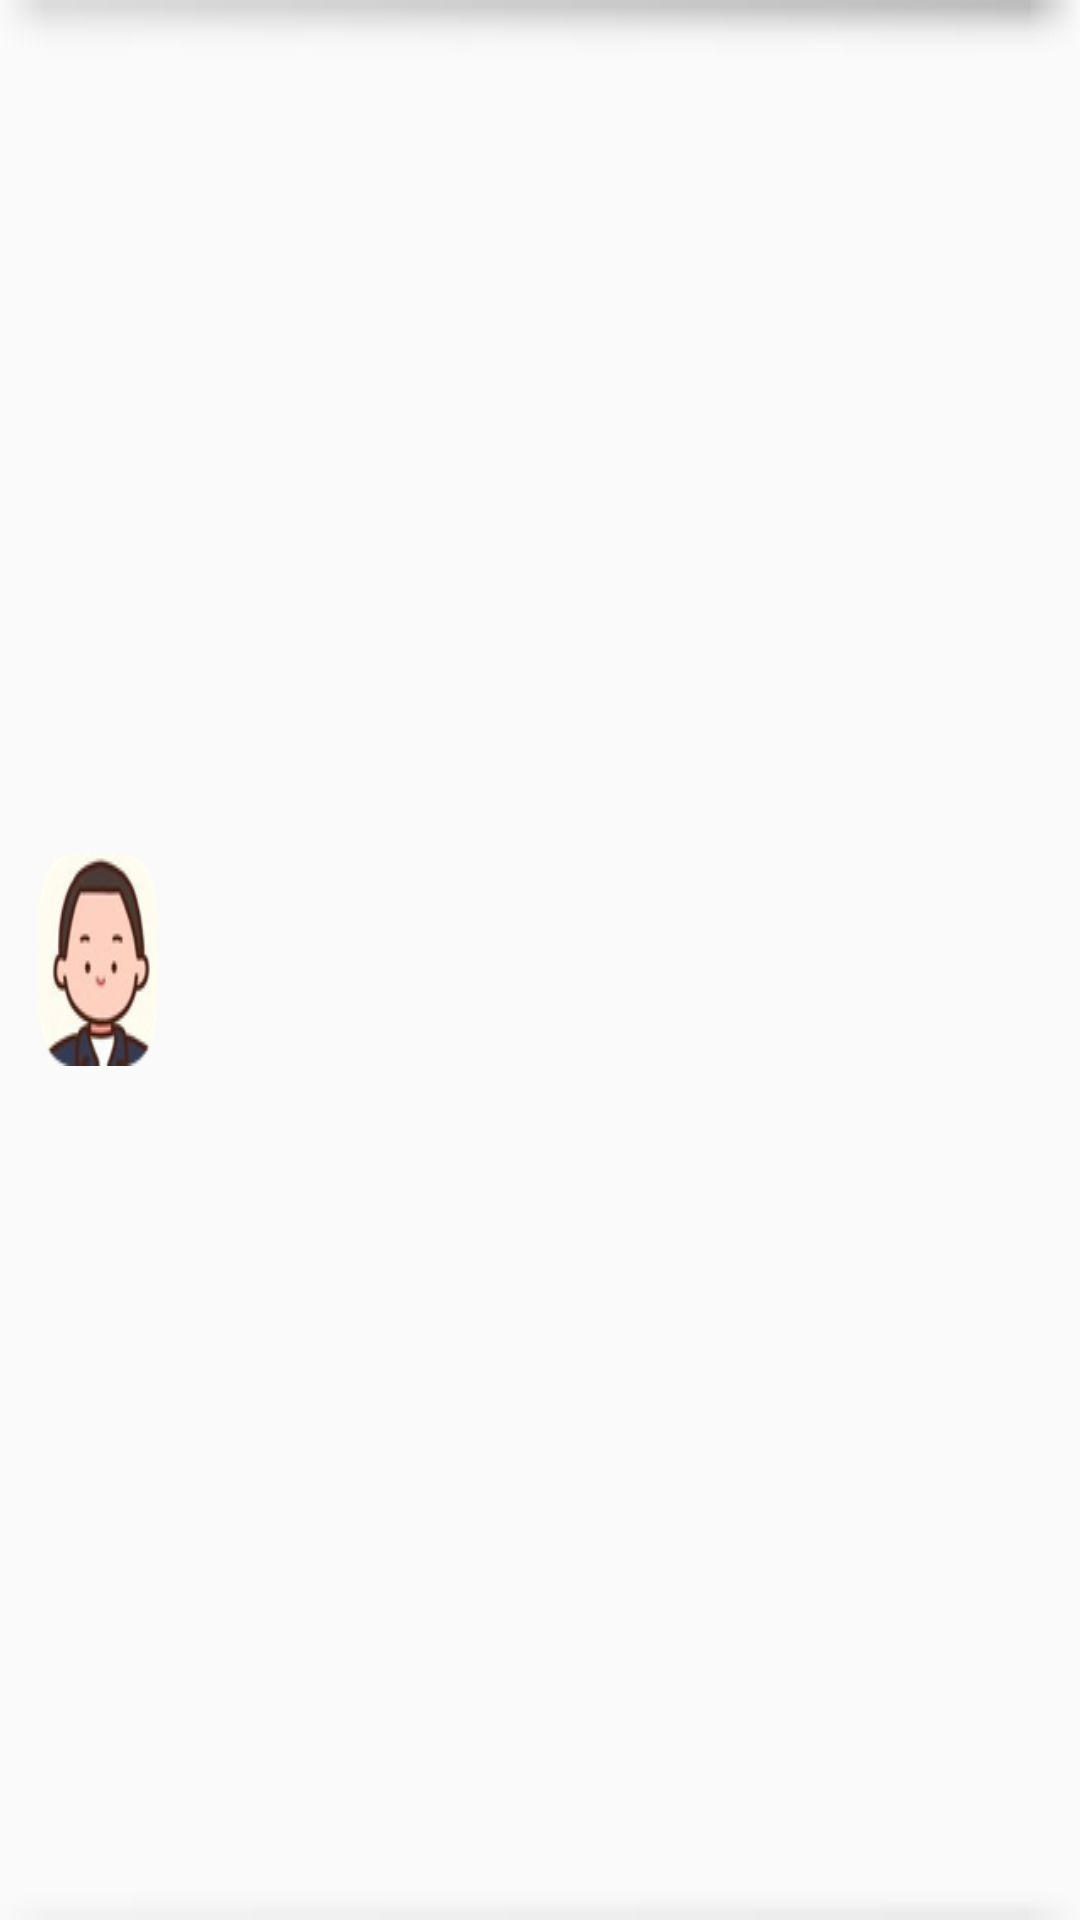

Where to tap for icons on this 1080x1920 app screen, as (x,y):
male: (99,962)
